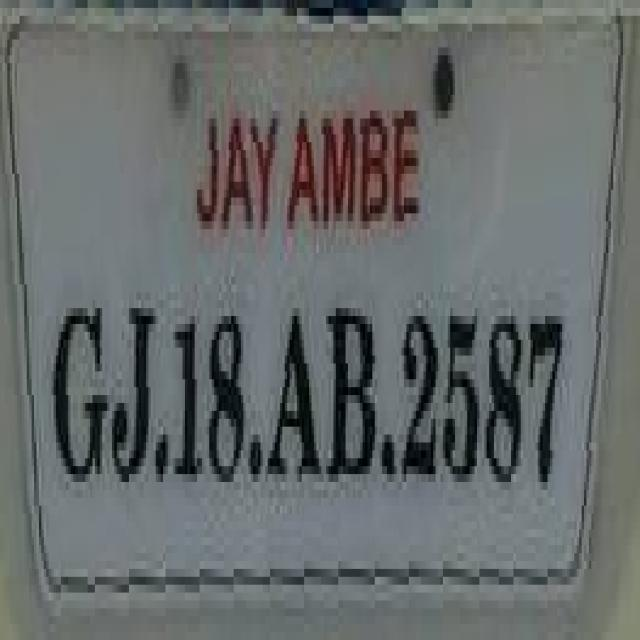license_plate: (7, 63, 599, 593)
